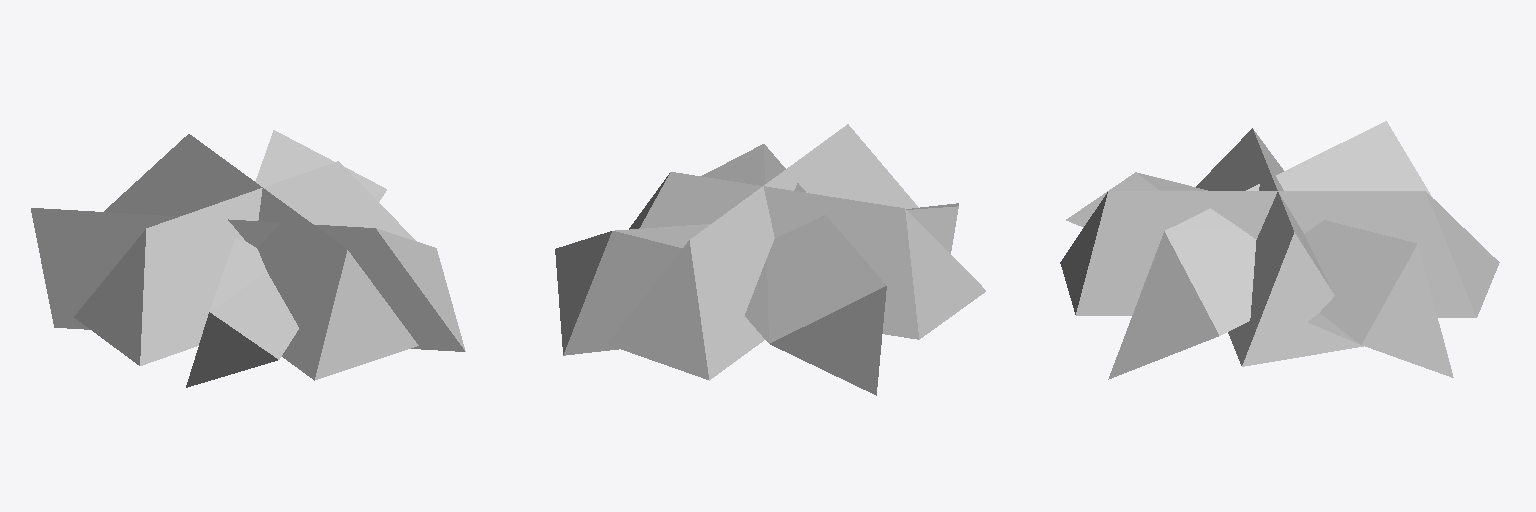
Rendered from st_fire_logs.obj.
The picture shows the model from 3 angles: view 1: azimuth 30°, elevation 25°; view 2: azimuth 150°, elevation 25°; view 3: azimuth 270°, elevation 25°; orthographic projection.
Parts seen in each view (by area): view 1: Log_Cylinder.001; view 2: Log_Cylinder.001; view 3: Log_Cylinder.001.
Boxes of the visible parts, x1=… form: Log_Cylinder.001: x1=31, y1=130, x2=465, y2=387; Log_Cylinder.001: x1=555, y1=124, x2=985, y2=395; Log_Cylinder.001: x1=1060, y1=121, x2=1499, y2=379.
Bounding box in the file's own units: 1.82 × 0.6857 × 2.01.